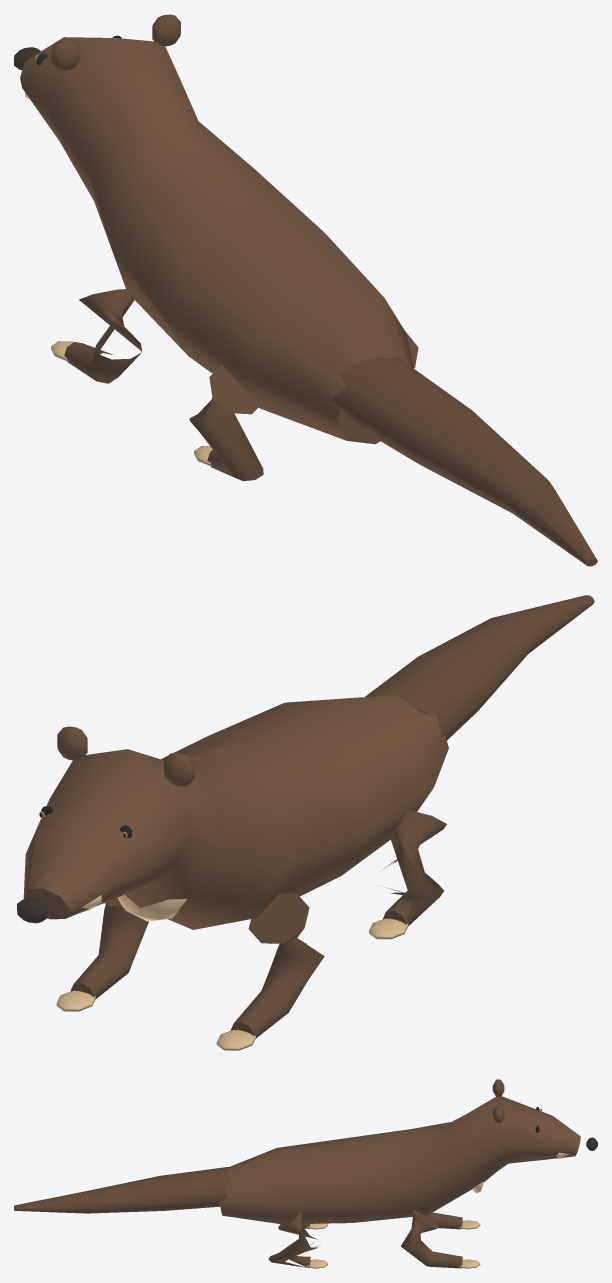
File: otter_mobile.glb
3 renders of one model, top to bottom at view 1: azimuth 30°, elevation 25°; view 2: azimuth 150°, elevation 25°; view 3: azimuth 270°, elevation 25°, orthographic. The views are drawn at different scales.
Visible parts, largest first — view 1: OtterOrganicBody, Tail, Leg_LH, Leg_LF, RoundEar, RoundEar2; view 2: OtterOrganicBody, Tail, Leg_LF, Leg_LH, Leg_RF, CreamThroat, RoundEar, RoundEar2, Paw_LH, Paw_LF, Paw_RF, Nose; view 3: OtterOrganicBody, Tail, Leg_RF, Leg_RH, Leg_LF.
Boxes of the visible parts, x1=… form: OtterOrganicBody: x1=20, y1=37, x2=413, y2=444; Tail: x1=332, y1=357, x2=597, y2=566; Leg_LH: x1=189, y1=365, x2=263, y2=480; Leg_LF: x1=64, y1=288, x2=142, y2=383; RoundEar: x1=51, y1=39, x2=80, y2=70; RoundEar2: x1=152, y1=14, x2=180, y2=46; OtterOrganicBody: x1=23, y1=695, x2=448, y2=929; Tail: x1=365, y1=595, x2=594, y2=740; Leg_LF: x1=231, y1=893, x2=324, y2=1038; Leg_LH: x1=381, y1=810, x2=446, y2=925; Leg_RF: x1=70, y1=897, x2=148, y2=998; CreamThroat: x1=117, y1=894, x2=186, y2=921; RoundEar: x1=164, y1=752, x2=194, y2=786; RoundEar2: x1=57, y1=726, x2=87, y2=760; Paw_LH: x1=369, y1=918, x2=408, y2=939; Paw_LF: x1=216, y1=1030, x2=255, y2=1050; Paw_RF: x1=56, y1=990, x2=95, y2=1011; Nose: x1=17, y1=898, x2=47, y2=923; OtterOrganicBody: x1=219, y1=1095, x2=580, y2=1223; Tail: x1=14, y1=1167, x2=230, y2=1213; Leg_RF: x1=401, y1=1209, x2=462, y2=1268; Leg_RH: x1=268, y1=1211, x2=320, y2=1268; Leg_LF: x1=427, y1=1212, x2=462, y2=1229.
Size of the model in its own units: 1.13 by 1.54 by 5.23.
